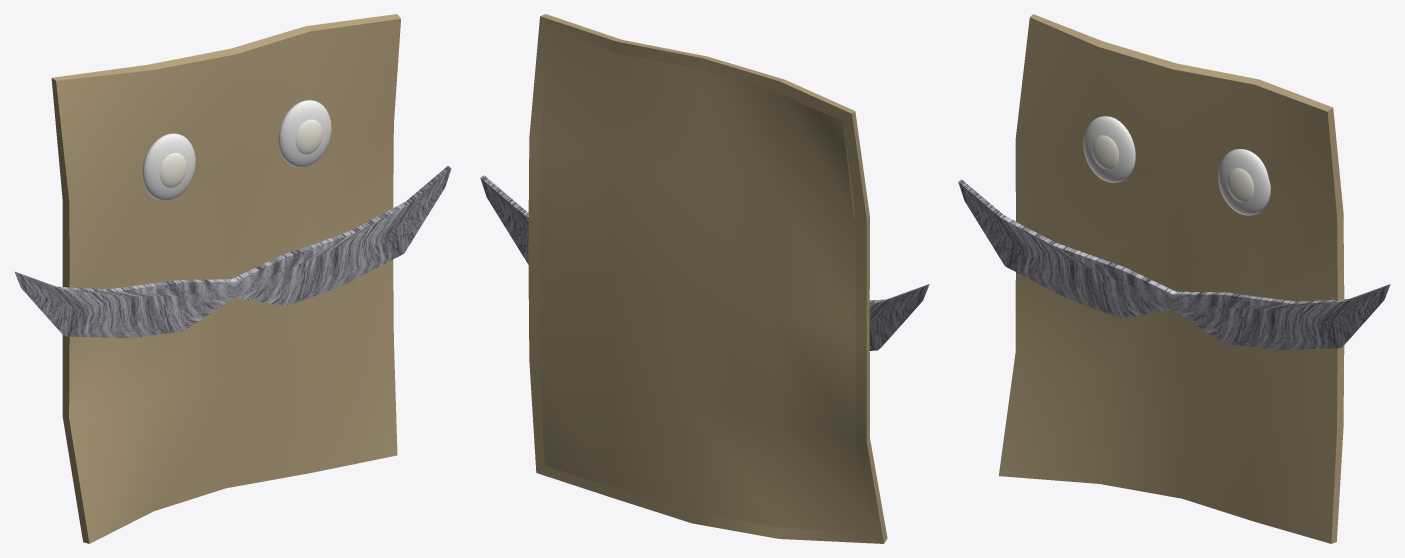
File: paperEnemy.fbx
3 renders of one model, left to right at view 1: azimuth 30°, elevation 25°; view 2: azimuth 150°, elevation 25°; view 3: azimuth 330°, elevation 25°, orthographic. The views are drawn at different scales.
Parts seen in each view (by area): view 1: Paper_Body, Moustache_Right, Moustache_Left, Eye_Left, Eye_Right, Pupil_Right, Pupil_Left; view 2: Paper_Body, Moustache_Left, Moustache_Right; view 3: Paper_Body, Moustache_Left, Moustache_Right, Eye_Right, Eye_Left, Pupil_Right, Pupil_Left.
Part boxes in pixels (x1=…): Paper_Body: x1=51, y1=14, x2=400, y2=543; Moustache_Right: x1=231, y1=166, x2=451, y2=305; Moustache_Left: x1=14, y1=271, x2=234, y2=338; Eye_Left: x1=142, y1=133, x2=195, y2=200; Eye_Right: x1=278, y1=100, x2=331, y2=167; Pupil_Right: x1=295, y1=119, x2=322, y2=154; Pupil_Left: x1=159, y1=153, x2=186, y2=187; Paper_Body: x1=528, y1=14, x2=887, y2=543; Moustache_Left: x1=869, y1=284, x2=929, y2=350; Moustache_Right: x1=480, y1=175, x2=528, y2=264; Paper_Body: x1=998, y1=14, x2=1344, y2=543; Moustache_Left: x1=958, y1=179, x2=1175, y2=318; Moustache_Right: x1=1172, y1=284, x2=1390, y2=349; Eye_Right: x1=1218, y1=149, x2=1270, y2=215; Eye_Left: x1=1083, y1=116, x2=1135, y2=182; Pupil_Right: x1=1227, y1=168, x2=1253, y2=202; Pupil_Left: x1=1092, y1=135, x2=1118, y2=169.
Bounding box in the file's own units: 82.65 × 81.1 × 12.
